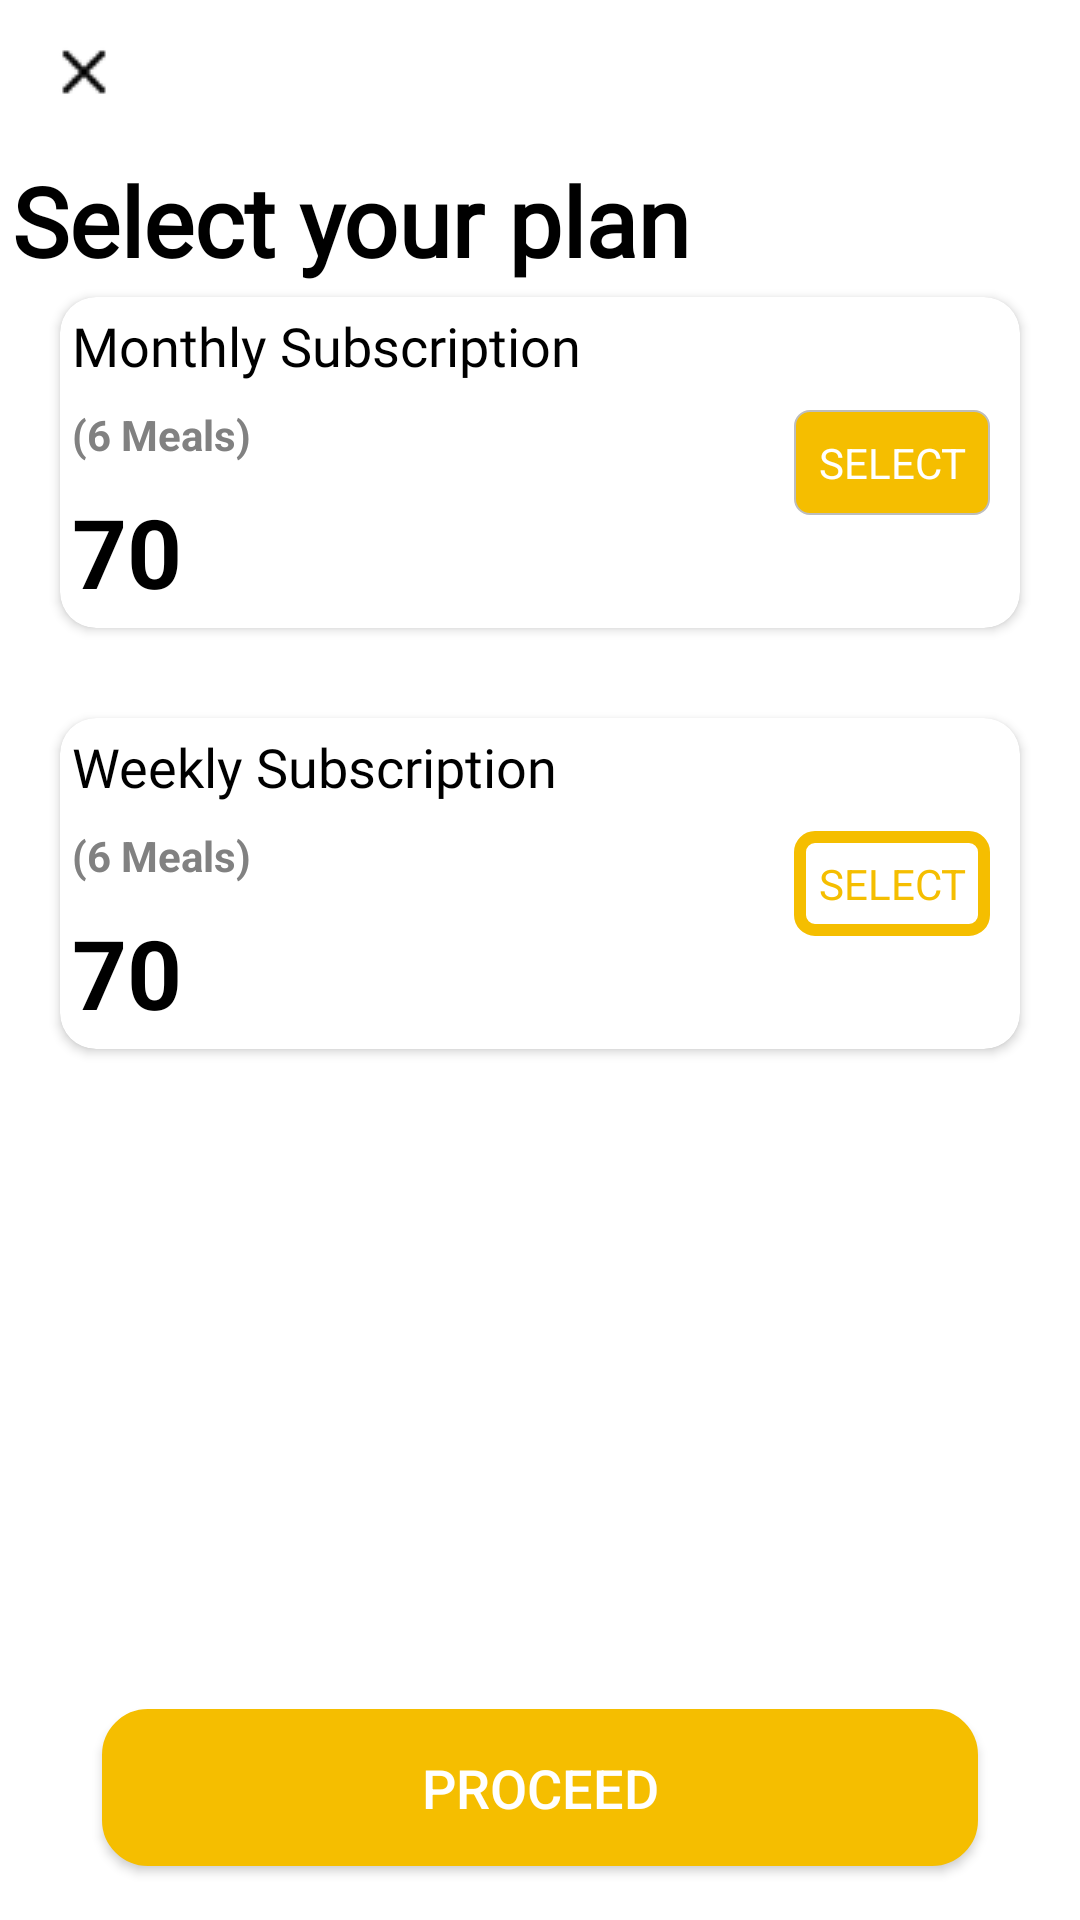

Icon click points for this 1080x1920 phone screenshot, format (x=x, y=y):
close: (x=84, y=72)
